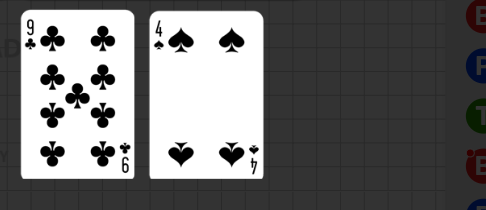4S: (247, 143, 260, 176)
9C: (118, 140, 132, 175)
